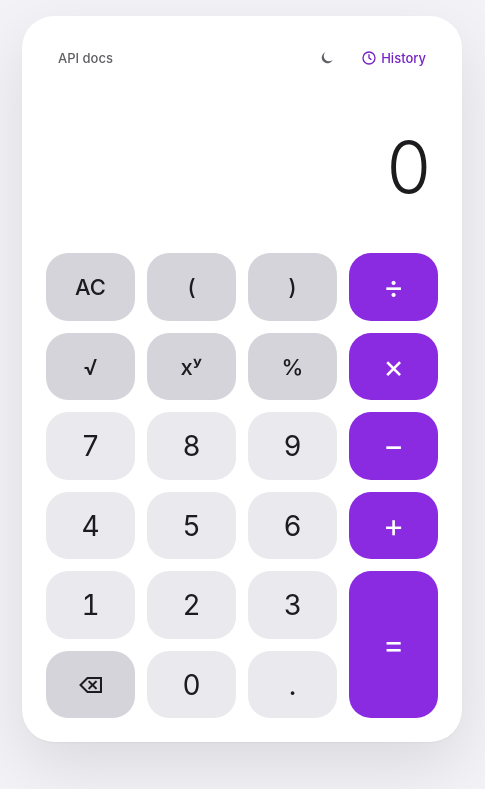
it: Calculator › shows a live preview while typing
Click the button "2": (192, 605) [147,572,236,639]
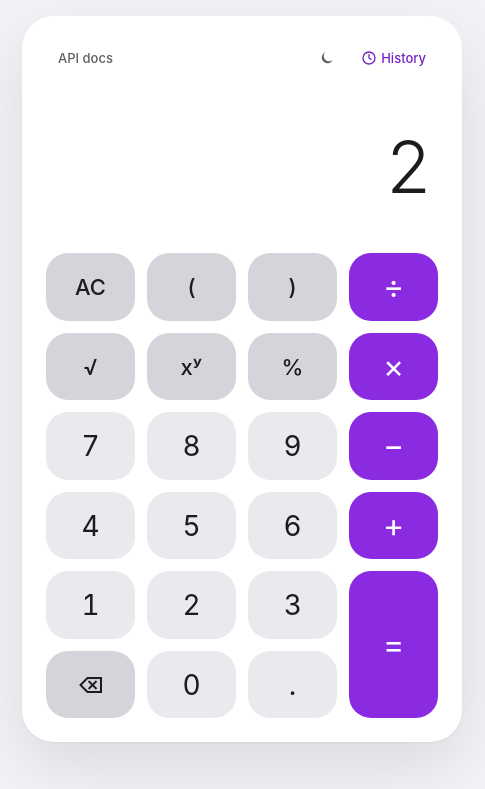
Click the button named "add": (394, 526) [349,492,438,560]
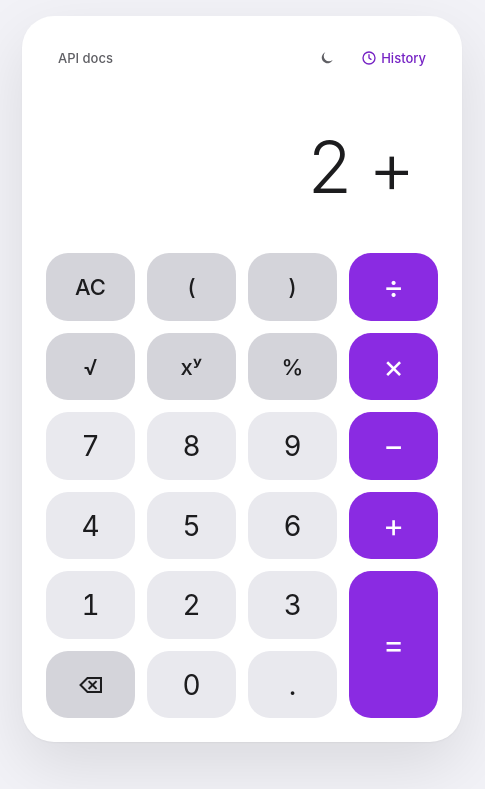
Click the button "3": (292, 605) [248,572,337,639]
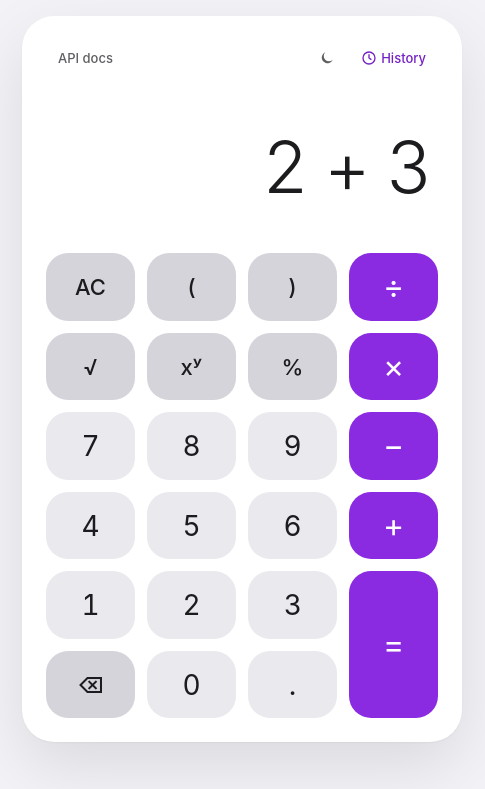
Click the button named "multiply": (394, 367) [349,333,438,400]
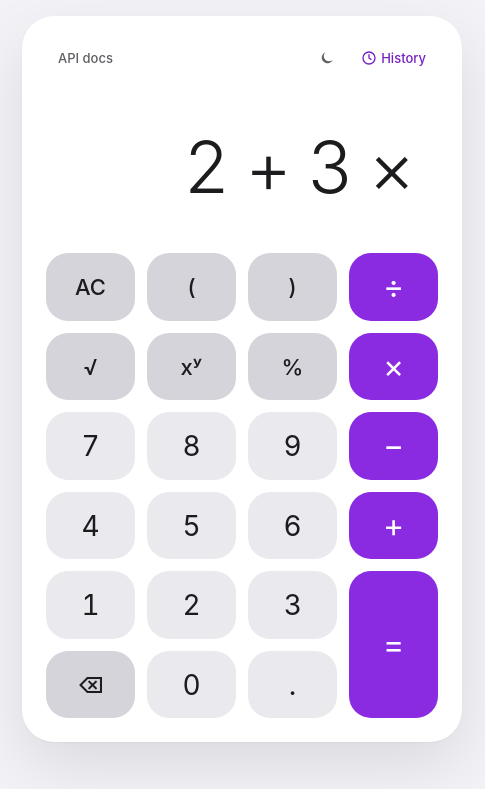
Click the button "4": (90, 526) [46,492,135,560]
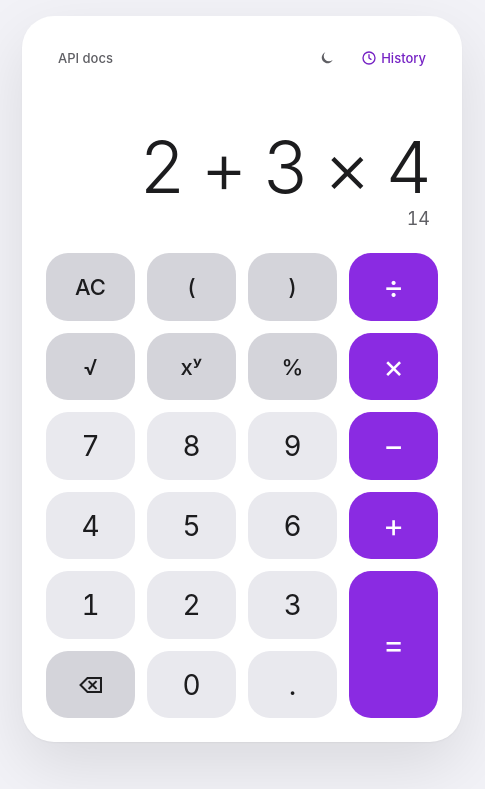
Now the element showing "2 + 3 × 4" is shown, box [139,129,430,204]
Now the element with test id "preview" reads "14", box [407,208,430,229]
